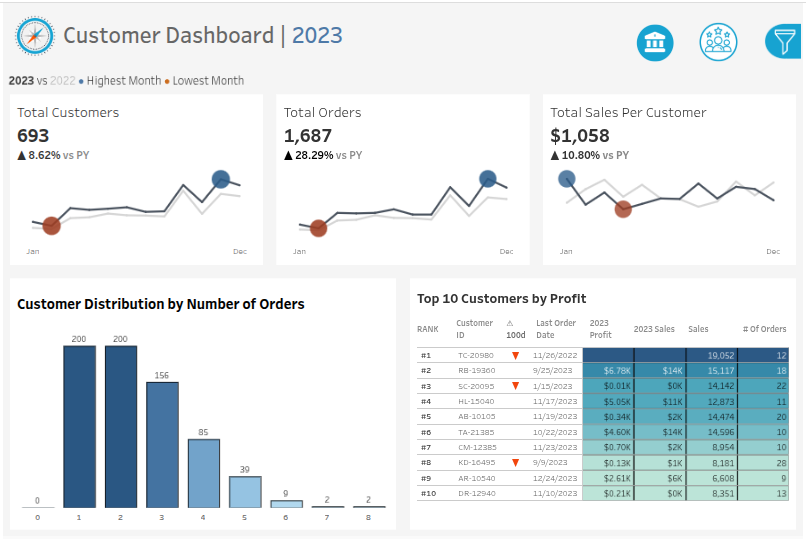

This screenshot's page, from the dashboard's own definition file:
{"tool":"tableau","page":{"name":"Customers Dashboard","canvas":[1200,800],"ordinal":0},"visuals":[{"type":"text","box":[0,0,600,94]},{"type":"blank","box":[931,10,256,110]},{"type":"image","param":"Image/Icon - Logo.png","box":[10,16,75,66]},{"type":"dashboard-object","box":[1023,29,100,59]},{"type":"dashboard-object","box":[1132,30,74,55]},{"type":"dashboard-object","box":[934,32,88,56]},{"type":"worksheet","title":"Legend KPI","mark":"Automatic","box":[0,94,1200,43]},{"type":"text","box":[931,120,256,51]},{"type":"worksheet","title":"Total Customers","mark":"Automatic","rows":["Calculation_0435444151083029"],"cols":["Order Date"],"box":[0,137,400,266]},{"type":"worksheet","title":"Total Orders","mark":"Automatic","rows":["Calculation_0435444146294797"],"cols":["Order Date"],"box":[400,137,400,266]},{"type":"worksheet","title":"Total Sales Per Customer","mark":"Automatic","rows":["Calculation_0435444119715848"],"cols":["Order Date"],"box":[800,137,400,266]},{"type":"parameter","param":"[Parameters].[Parameter 1]","box":[931,171,256,52]},{"type":"blank","box":[931,223,256,80]},{"type":"text","box":[931,303,256,31]},{"type":"filter","title":"Legend KPI","param":"[federated.1bz8o1w07ax03c1h8ps1b16zfw16].[none:Category:nk]","box":[931,334,256,52]},{"type":"filter","title":"Legend KPI","param":"[federated.1bz8o1w07ax03c1h8ps1b16zfw16].[none:Sub-Category:nk]","box":[931,386,256,52]},{"type":"text","box":[17,420,566,60]},{"type":"text","box":[617,420,566,47]},{"type":"blank","box":[931,438,256,90]},{"type":"text","box":[617,467,59,45]},{"type":"text","box":[676,467,75,45]},{"type":"text","box":[751,467,45,45]},{"type":"text","box":[796,467,80,45]},{"type":"text","box":[876,467,66,45]},{"type":"text","box":[942,467,82,45]},{"type":"text","box":[1024,467,82,45]},{"type":"text","box":[1106,467,77,45]},{"type":"worksheet","title":"Customer Distribution","mark":"Automatic","rows":["Calculation_0435444113158144"],"cols":["Calculation_0729013918113796"],"box":[17,480,566,303]},{"type":"worksheet","title":"Top 10 Customers","mark":"Square","rows":["Calculation_0729013930729479","Customer ID","Calculation_0636104550465561","Calculation_0636104538443798"],"box":[617,512,566,239]},{"type":"text","box":[931,528,256,31]},{"type":"filter","title":"Legend KPI","param":"[federated.1bz8o1w07ax03c1h8ps1b16zfw16].[none:Region:nk]","box":[931,559,256,52]},{"type":"filter","title":"Legend KPI","param":"[federated.1bz8o1w07ax03c1h8ps1b16zfw16].[none:State:nk]","box":[931,611,256,52]},{"type":"filter","title":"Legend KPI","param":"[federated.1bz8o1w07ax03c1h8ps1b16zfw16].[none:City:nk]","box":[931,663,256,52]}]}

Visuals, with their boxes in screenshot pixels (x1, y1, x2, y2), scaled from the page's 1200x800 canvas onto the 806x539 screenshot:
text: select_region(0, 0, 403, 63)
blank: select_region(625, 7, 797, 81)
image: select_region(7, 11, 57, 55)
dashboard-object: select_region(687, 20, 754, 59)
dashboard-object: select_region(760, 20, 805, 57)
dashboard-object: select_region(627, 22, 686, 59)
"Legend KPI" worksheet: select_region(0, 63, 805, 92)
text: select_region(625, 81, 797, 115)
"Total Customers" worksheet: select_region(0, 92, 269, 272)
"Total Orders" worksheet: select_region(269, 92, 537, 272)
"Total Sales Per Customer" worksheet: select_region(537, 92, 805, 272)
parameter: select_region(625, 115, 797, 150)
blank: select_region(625, 150, 797, 204)
text: select_region(625, 204, 797, 225)
"Legend KPI" filter: select_region(625, 225, 797, 260)
"Legend KPI" filter: select_region(625, 260, 797, 295)
text: select_region(11, 283, 392, 323)
text: select_region(414, 283, 795, 315)
blank: select_region(625, 295, 797, 356)
text: select_region(414, 315, 454, 345)
text: select_region(454, 315, 504, 345)
text: select_region(504, 315, 535, 345)
text: select_region(535, 315, 588, 345)
text: select_region(588, 315, 633, 345)
text: select_region(633, 315, 688, 345)
text: select_region(688, 315, 743, 345)
text: select_region(743, 315, 795, 345)
"Customer Distribution" worksheet: select_region(11, 323, 392, 528)
"Top 10 Customers" worksheet (Square marks): select_region(414, 345, 795, 506)
text: select_region(625, 356, 797, 377)
"Legend KPI" filter: select_region(625, 377, 797, 412)
"Legend KPI" filter: select_region(625, 412, 797, 447)
"Legend KPI" filter: select_region(625, 447, 797, 482)
